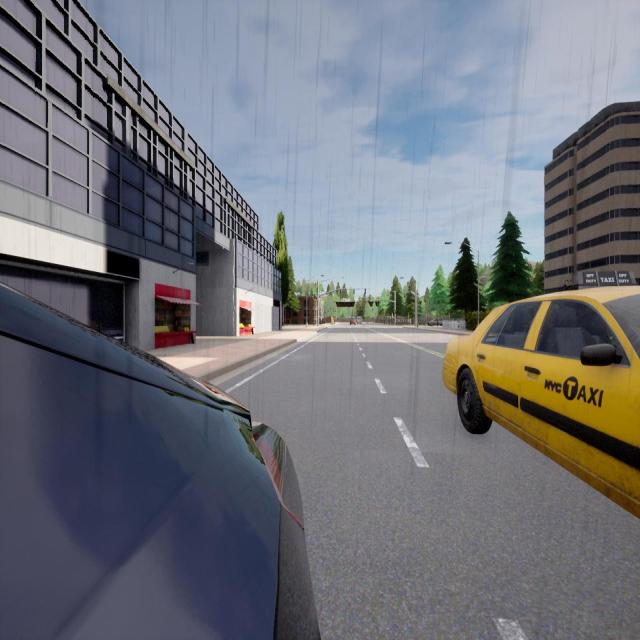Vehicle: (0, 278, 318, 640), (443, 286, 639, 517), (427, 318, 443, 326), (350, 318, 356, 326), (357, 316, 362, 325)
traffic_light: (410, 292, 412, 296), (404, 294, 406, 298), (340, 289, 341, 294), (368, 297, 369, 302), (365, 289, 366, 294), (394, 310, 395, 313), (378, 298, 378, 302), (360, 298, 360, 302), (354, 289, 354, 294)
